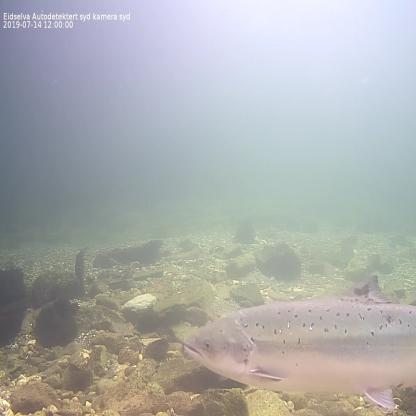salmon: (173, 269, 415, 413)
